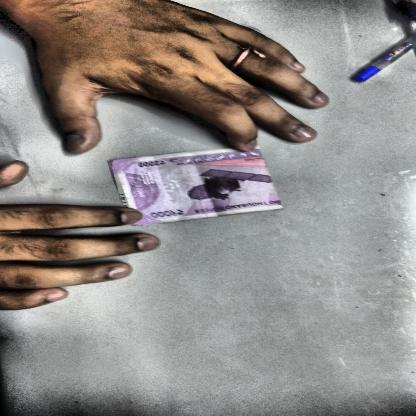Rs2000: (134, 158, 170, 169)
